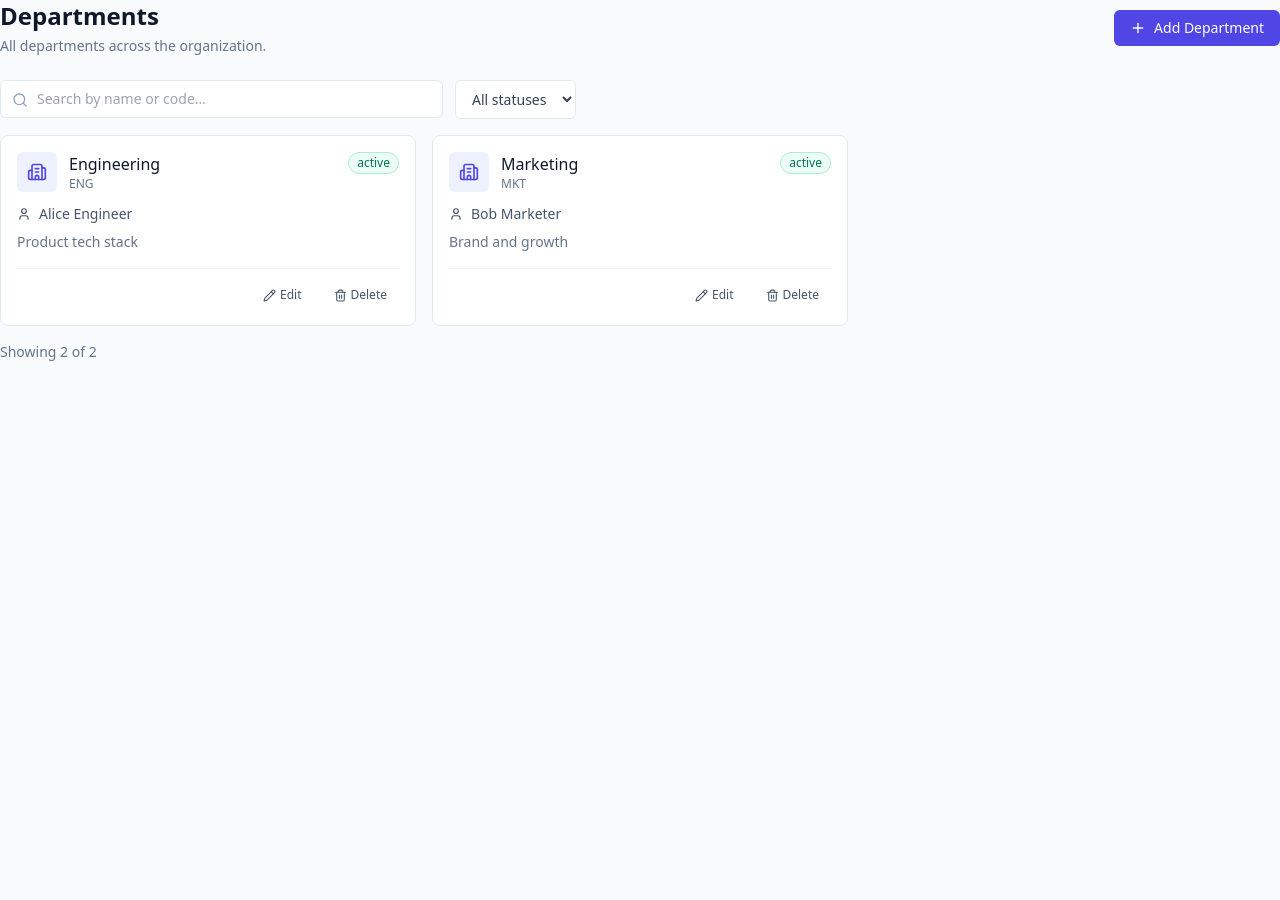
Test: DepartmentsPage - CRUD Workflows › Add and Edit Workflows › shows error feedback when Edit Department API fails and preserves modal state
This screenshot has width=1280, height=900.
Expected: the text "Engineering" is shown, [69,152,160,176]
Click the button "Edit" below "Product tech stack" at (282, 295), box [251,281,314,309]
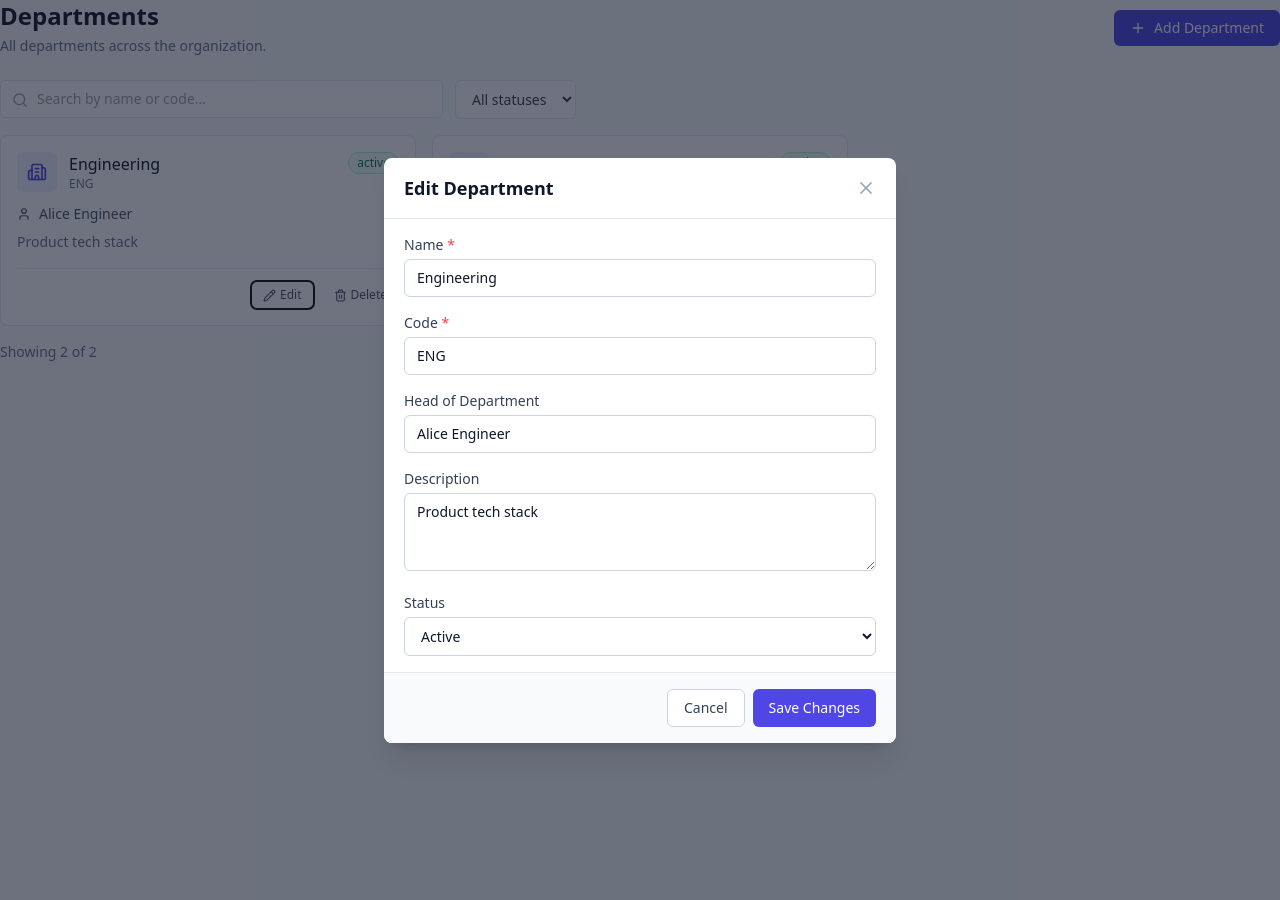
Click the button "Save Changes" at (814, 708), box [753,688,876,726]
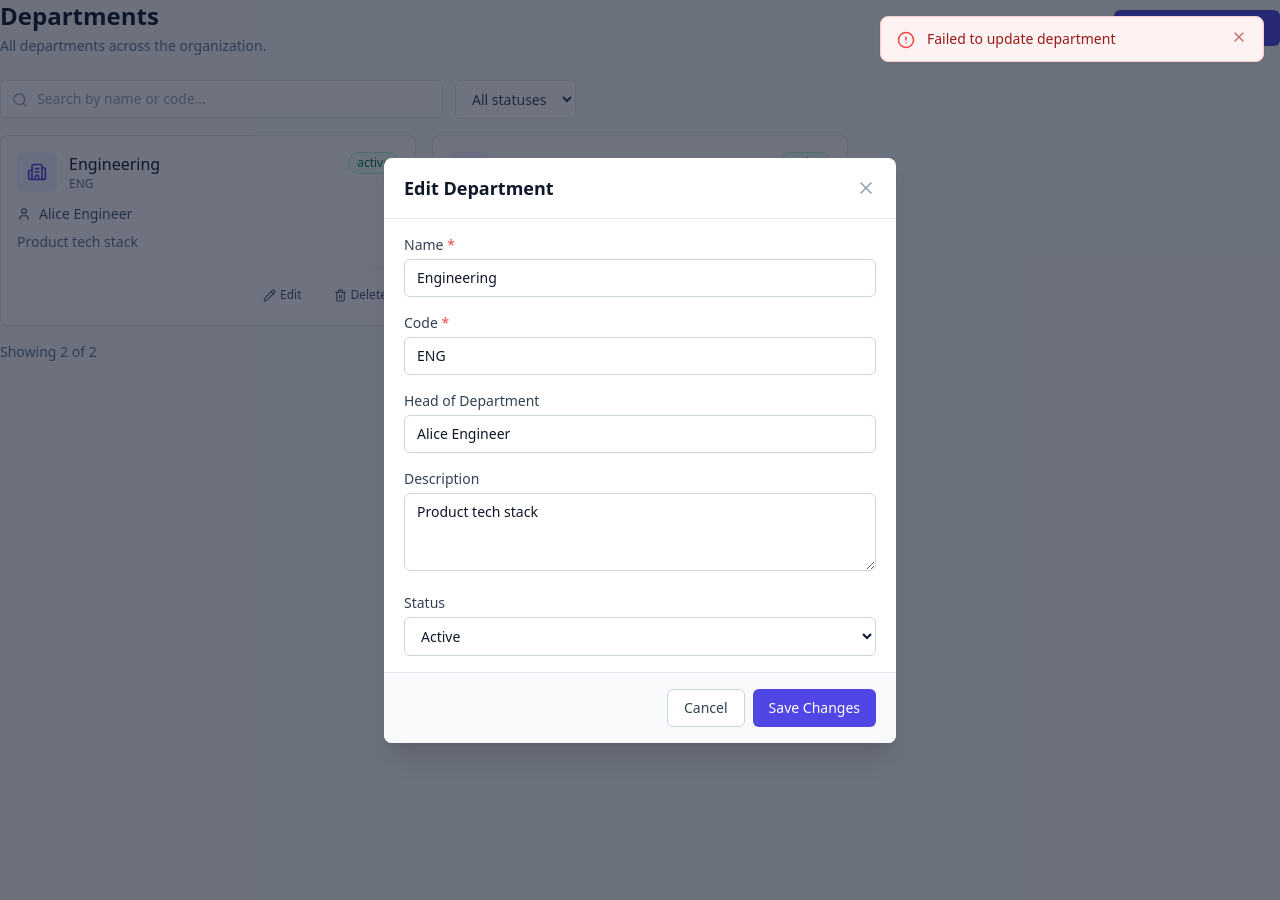
Expected: the heading "Edit Department" is shown, [404,174,554,202]
Expected: the text "Failed to update department" is shown, [927,29,1116,48]
